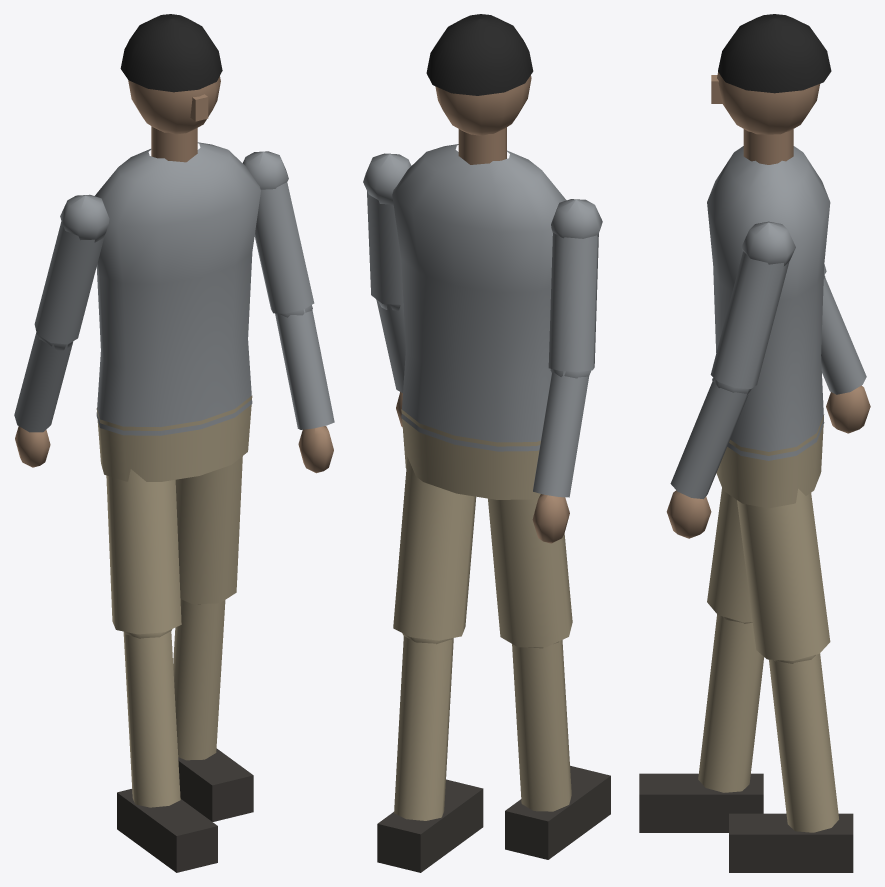
Rendered from person_c.glb.
The picture shows the model from 3 angles, left to right: view 1: azimuth 30°, elevation 25°; view 2: azimuth 150°, elevation 25°; view 3: azimuth 270°, elevation 25°; orthographic projection. The views are drawn at different scales.
Visible parts, largest first — view 1: person; view 2: person; view 3: person.
Part boxes in pixels (x1=…): person: x1=14, y1=14, x2=334, y2=872; person: x1=363, y1=14, x2=610, y2=872; person: x1=639, y1=14, x2=870, y2=872.
Bounding box in the file's own units: 0.0293 × 0.0914 × 0.0233.
